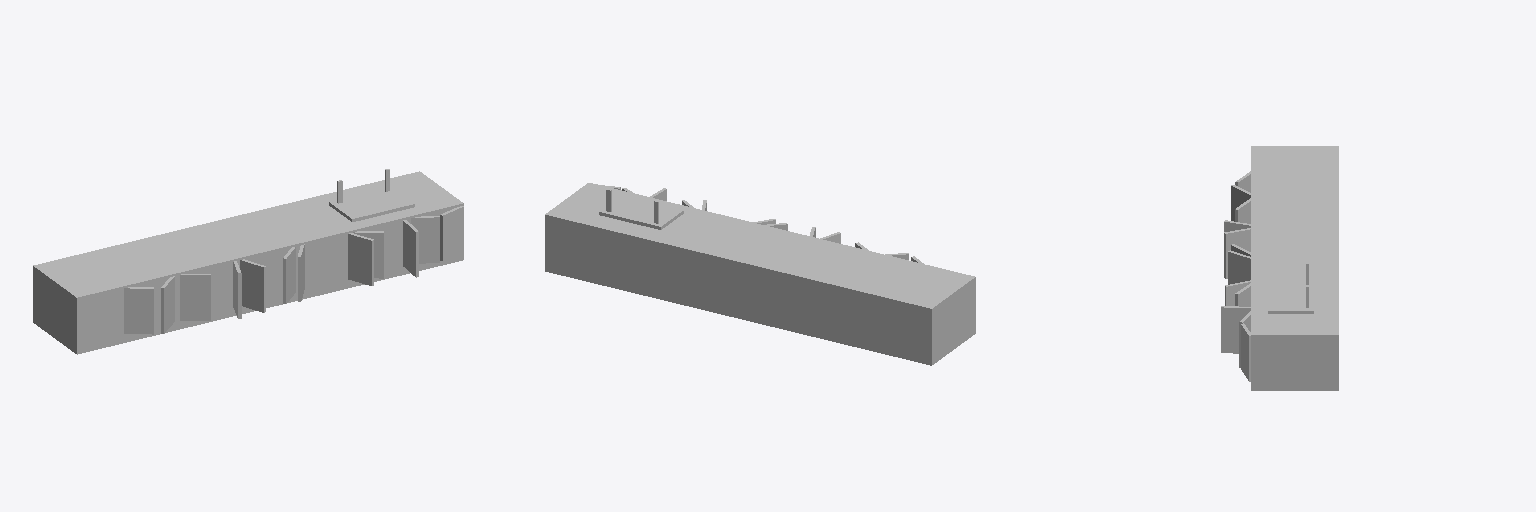
The model's file is Kitchen Bench.obj.
The picture shows the model from 3 angles: view 1: azimuth 30°, elevation 25°; view 2: azimuth 150°, elevation 25°; view 3: azimuth 270°, elevation 25°; orthographic projection.
Parts seen in each view (by area): view 1: Cube, Cube (3), Cube (13), Cube (14), Cube (8), Cube (10), Cube (7), Cube (6), Cube (5), Cube (15), Cube (11), Cube (4); view 2: Cube, Cube (3); view 3: Cube, Cube (3), Cube (5), Cube (9), Cube (10).
Boxes of the visible parts, x1,y1,x2,y2 form: Cube: [33, 171, 463, 354]; Cube (3): [329, 187, 414, 221]; Cube (13): [180, 274, 210, 320]; Cube (14): [124, 287, 153, 334]; Cube (8): [348, 233, 373, 285]; Cube (10): [240, 259, 265, 312]; Cube (7): [440, 206, 463, 260]; Cube (6): [411, 216, 439, 263]; Cube (5): [403, 220, 418, 277]; Cube (15): [161, 276, 174, 333]; Cube (11): [283, 247, 295, 303]; Cube (4): [353, 231, 383, 278]; Cube: [545, 183, 975, 365]; Cube (3): [599, 195, 683, 229]; Cube: [1251, 146, 1338, 390]; Cube (3): [1268, 281, 1313, 313]; Cube (5): [1221, 306, 1250, 353]; Cube (9): [1228, 250, 1250, 284]; Cube (10): [1224, 228, 1250, 278].
Size of the model in its own units: 7.12 by 1.44 by 1.89.